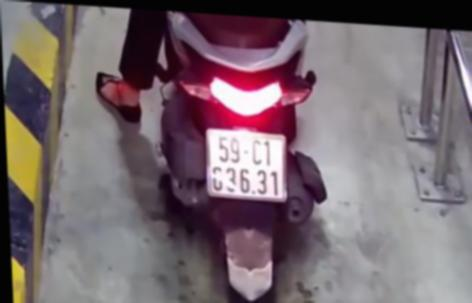License_Plate: (195, 124, 295, 213)
